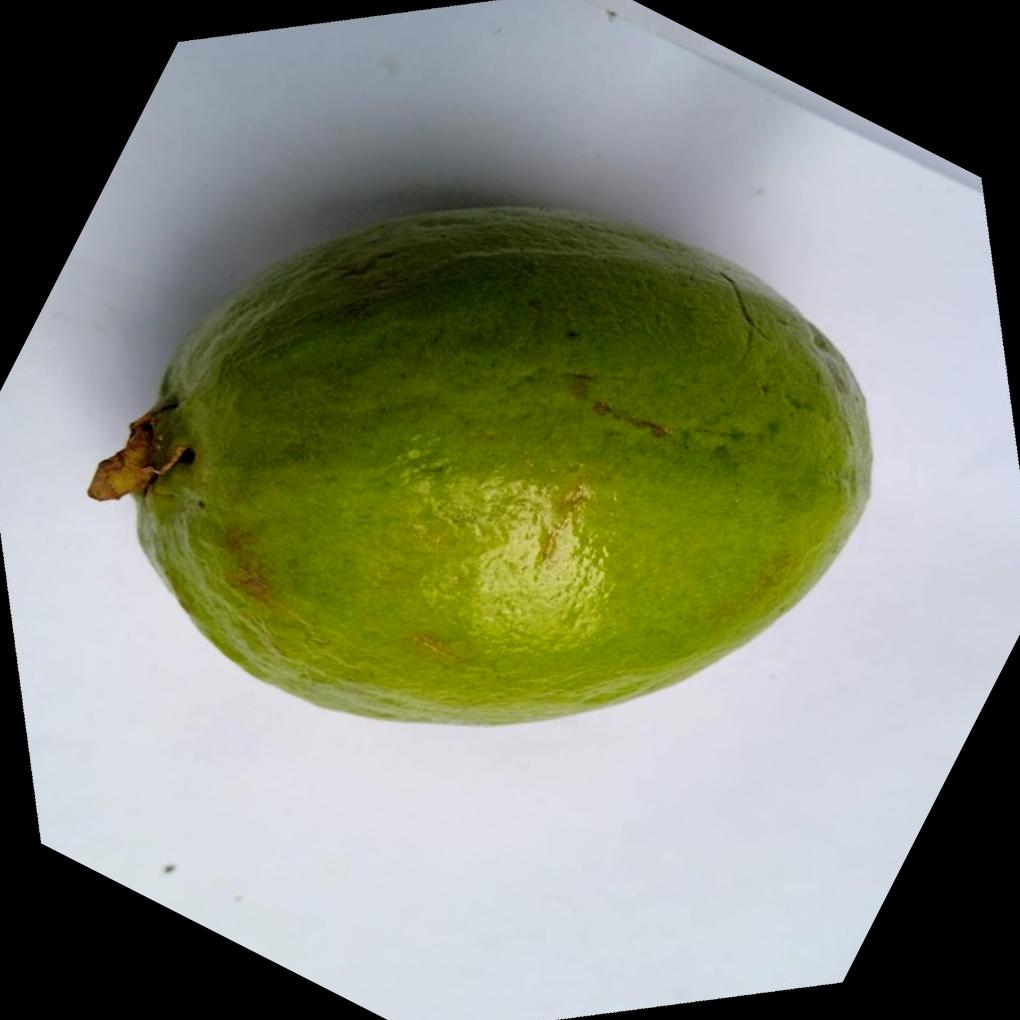FreshGuava: (88, 200, 872, 726)
